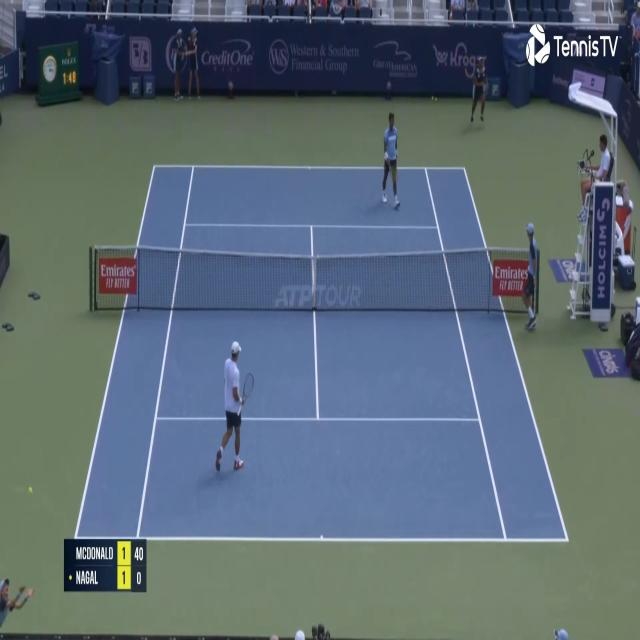tennis-player: (212, 337, 255, 478), (380, 110, 402, 211)
